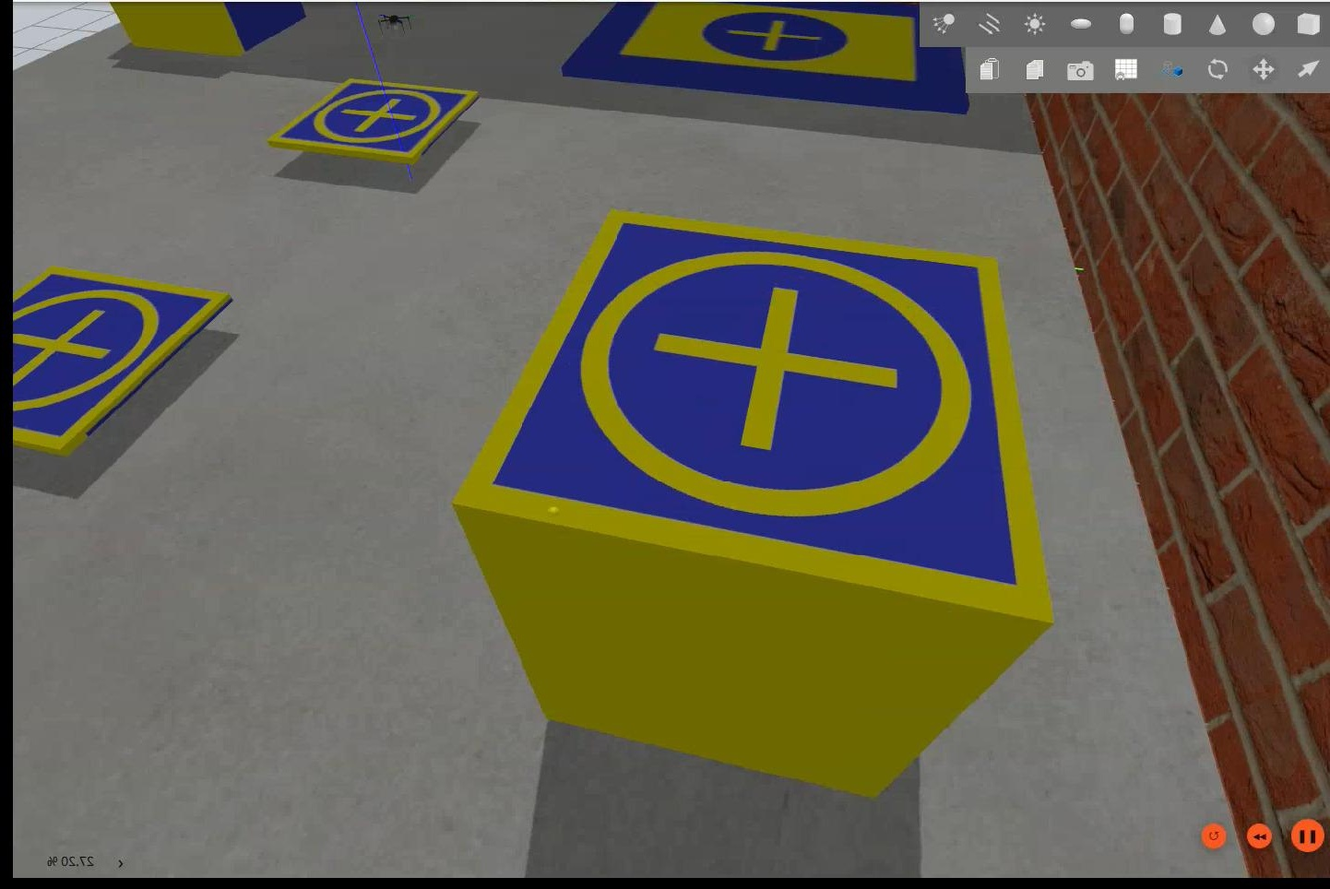large_base: (554, 1, 968, 112)
small_base: (450, 206, 1058, 627), (4, 266, 232, 458), (265, 77, 475, 160)
